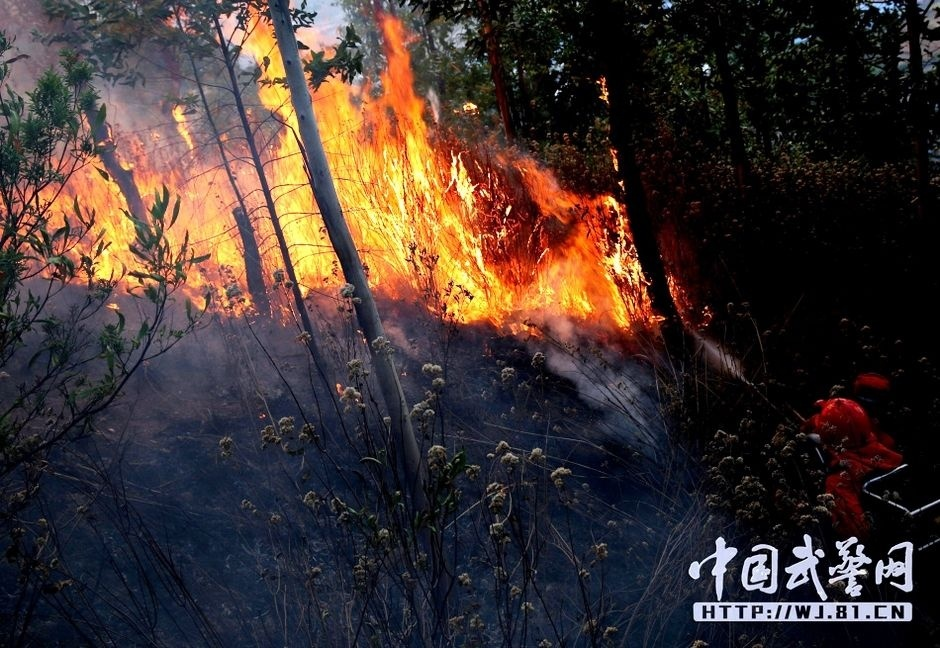fire: (15, 0, 668, 343)
